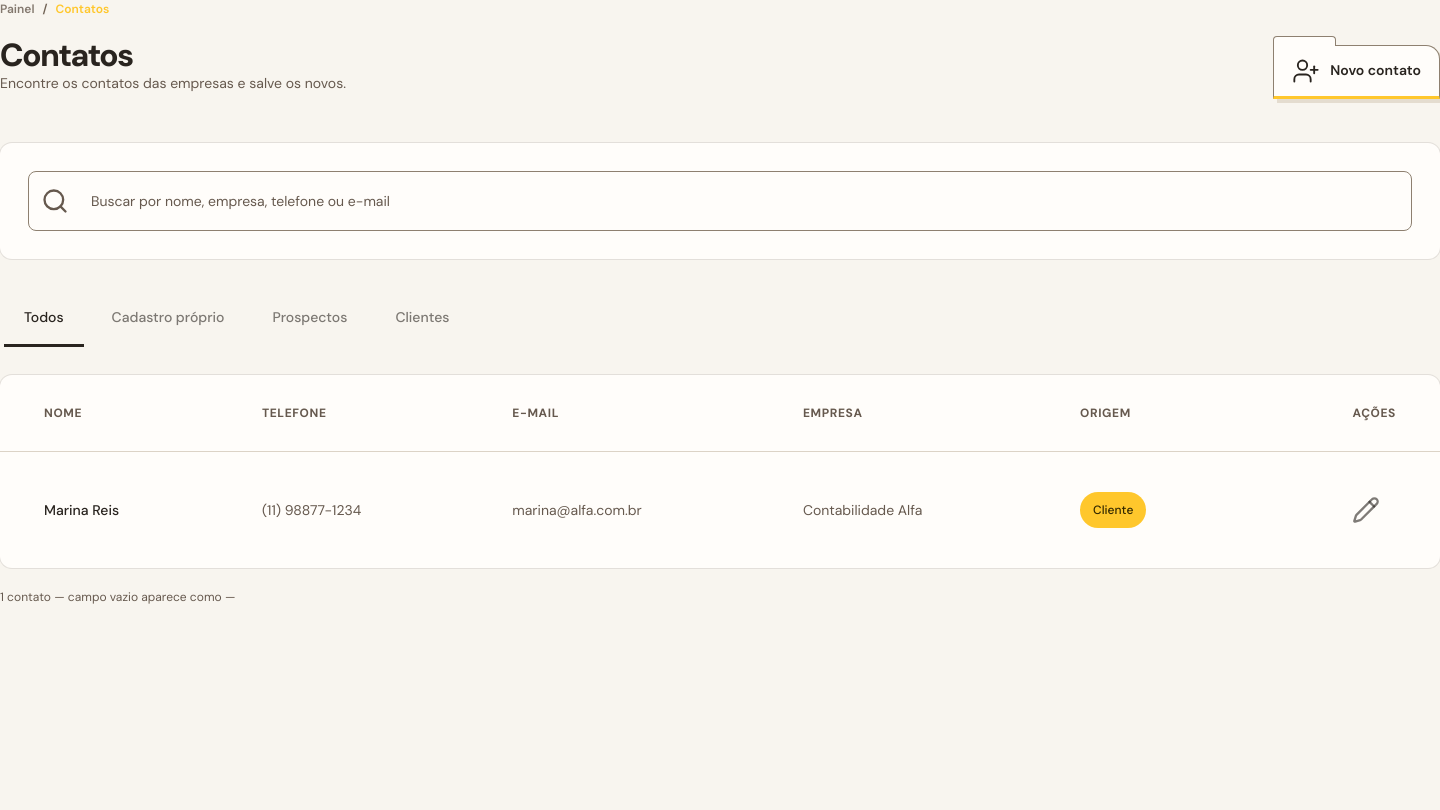
ContatosPage › explica onde o contato do cliente é corrigido
Click the button named "editar" at coordinates (1366, 510), box [1336,480,1396,540]
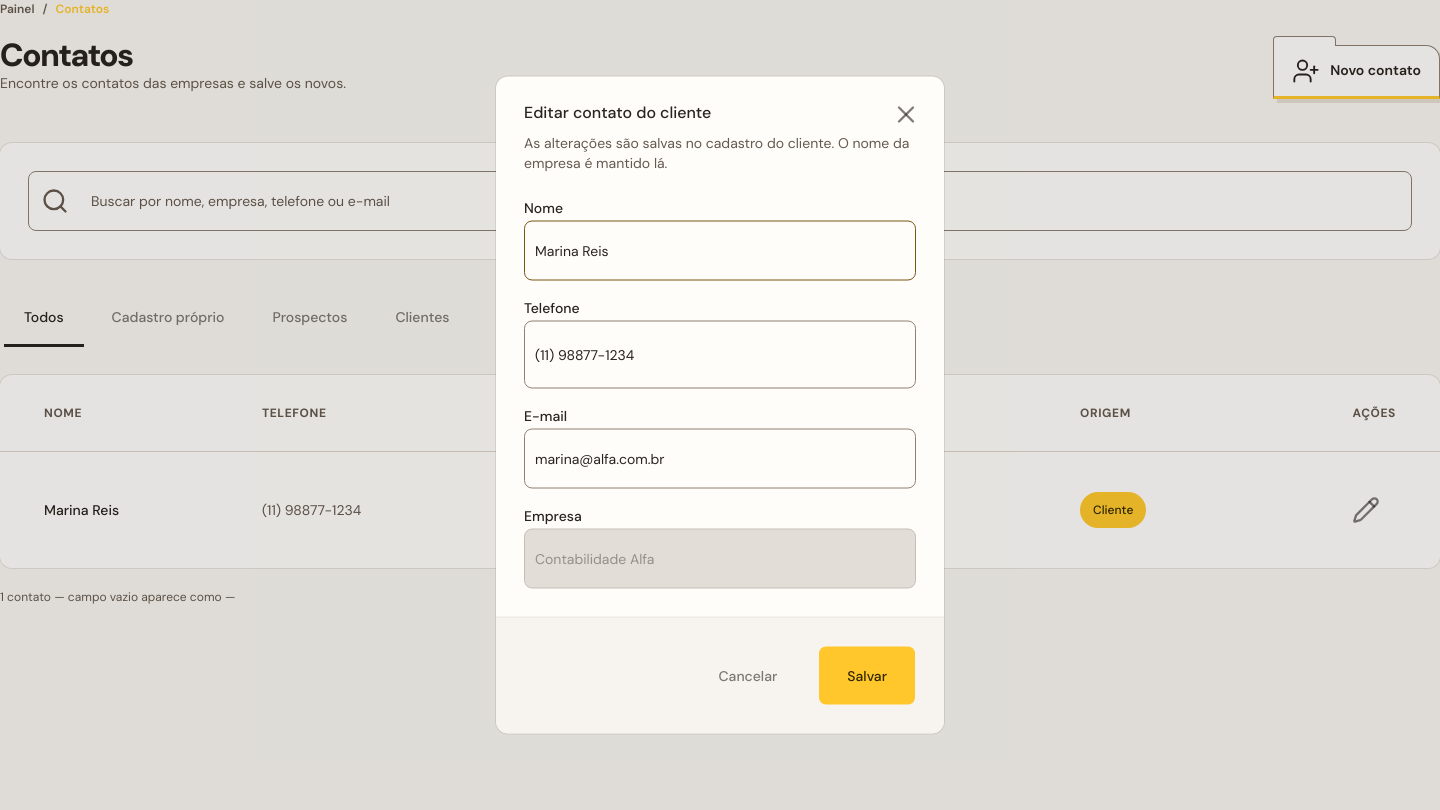
expect the text "cadastro do cliente" is shown: met, box [524,134,909,172]
